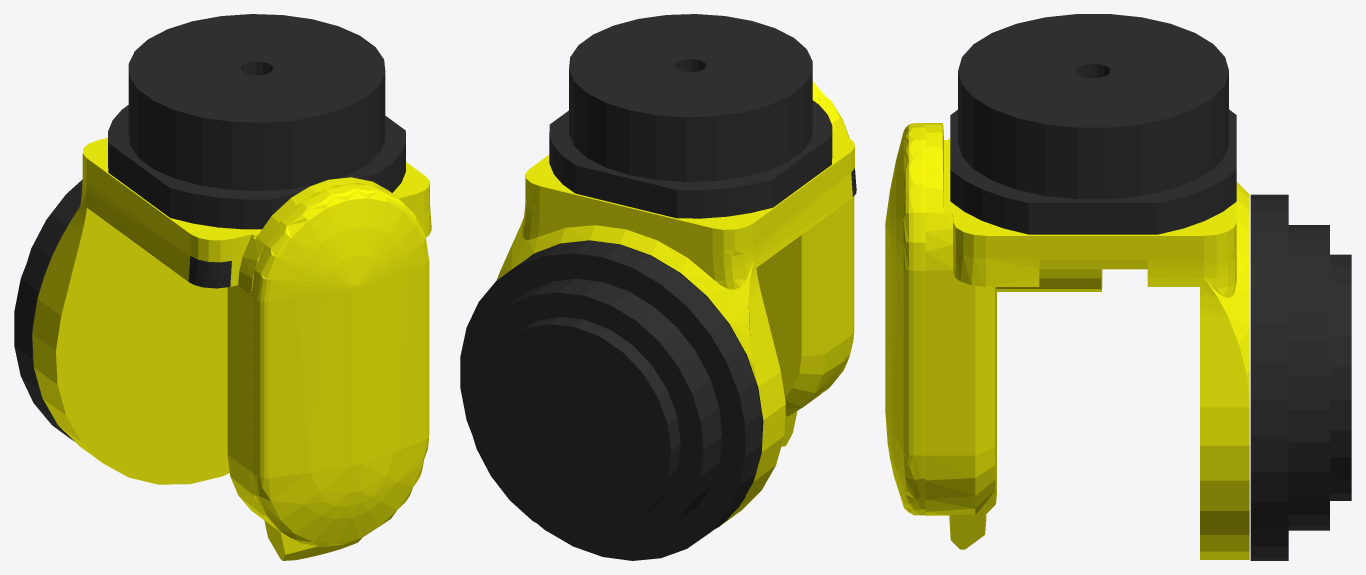
The picture shows the model from 3 angles, left to right: view 1: azimuth 30°, elevation 25°; view 2: azimuth 150°, elevation 25°; view 3: azimuth 270°, elevation 25°; orthographic projection. The views are drawn at different scales.
Parts seen in each view (by area): view 1: node; view 2: node; view 3: node.
Boxes of the visible parts, <box> form: node: <box>14,14,431,560</box>; node: <box>460,14,856,560</box>; node: <box>885,14,1351,560</box>.
Bounding box in the file's own units: 169 × 241 × 215.
